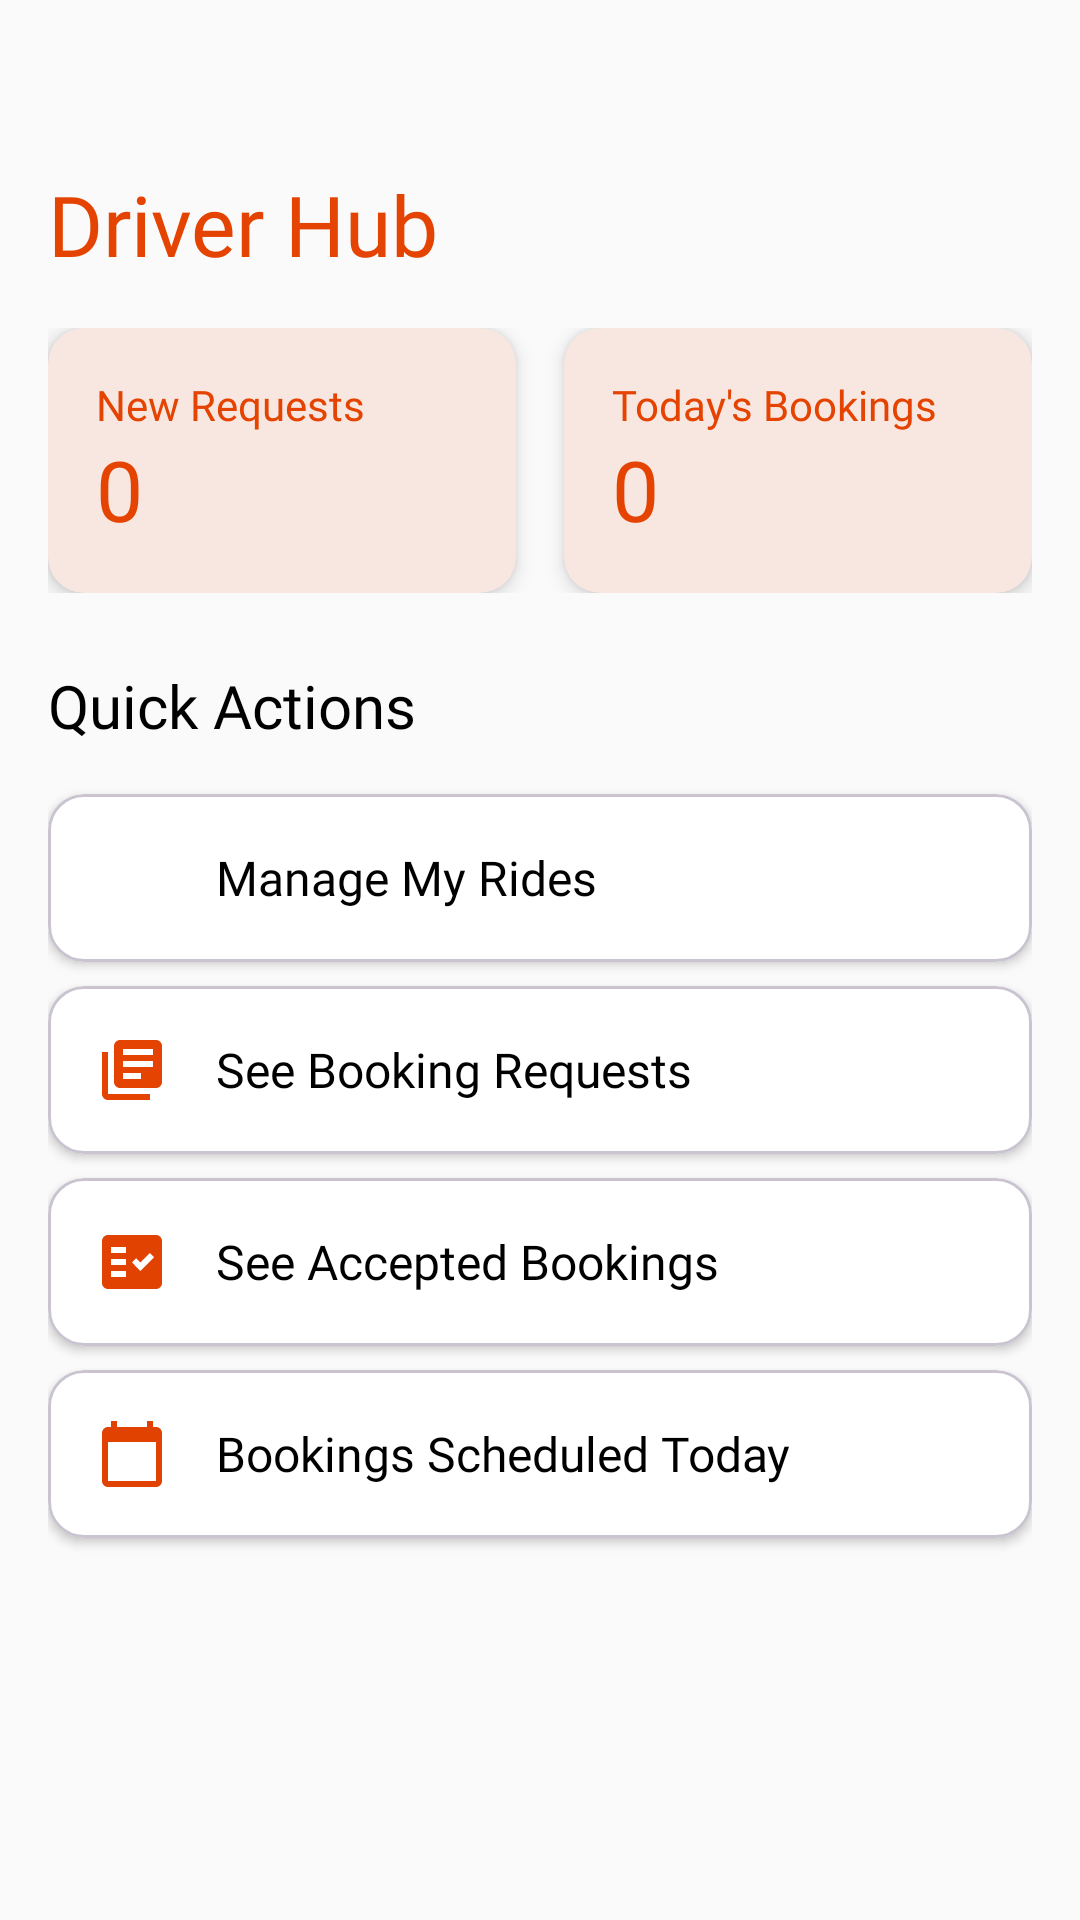

Screen size 1080 x 1920. Icon name, then its center in pixels as (x=x, y=y):
bookingtoday: (x=132, y=1454)
